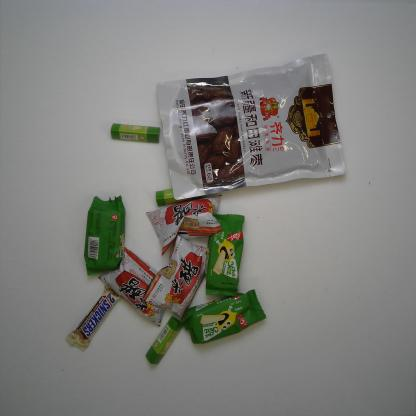Chocolate: (60, 278, 127, 353)
Dessert: (182, 287, 268, 346), (82, 194, 126, 278), (204, 212, 245, 298)
Dried Food: (155, 51, 350, 200)
Seasoner: (143, 233, 208, 320), (96, 247, 164, 329), (145, 193, 223, 257)
Stationery: (144, 314, 184, 366), (110, 122, 160, 144), (155, 188, 204, 207)
